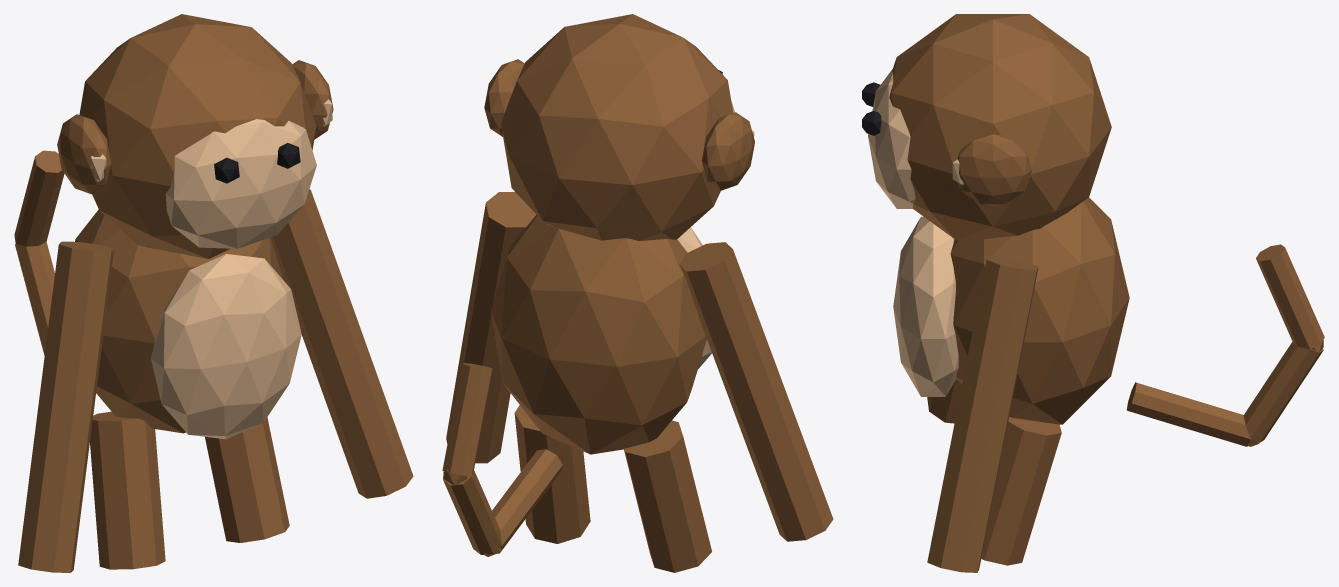
Rendered from Monkey.fbx.
The picture shows the model from 3 angles, left to right: view 1: azimuth 30°, elevation 25°; view 2: azimuth 150°, elevation 25°; view 3: azimuth 270°, elevation 25°; orthographic projection. The views are drawn at different scales.
Parts seen in each view (by area): view 1: Fur, Face, Eyes; view 2: Fur, Face; view 3: Fur, Face, Eyes.
Part boxes in pixels (x1,y1,x2,y2): Fur: [14, 14, 413, 572]; Face: [90, 99, 332, 439]; Eyes: [214, 143, 300, 183]; Fur: [442, 14, 833, 572]; Face: [677, 101, 754, 368]; Fur: [889, 14, 1324, 572]; Face: [868, 69, 963, 396]; Eyes: [862, 82, 881, 135].
Size of the model in its own units: 2.16 by 2.84 by 2.33.
